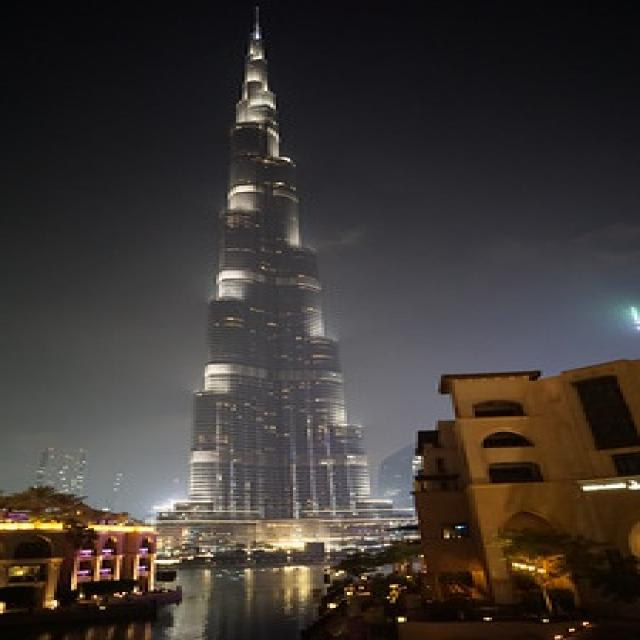building: (164, 35, 402, 552)
